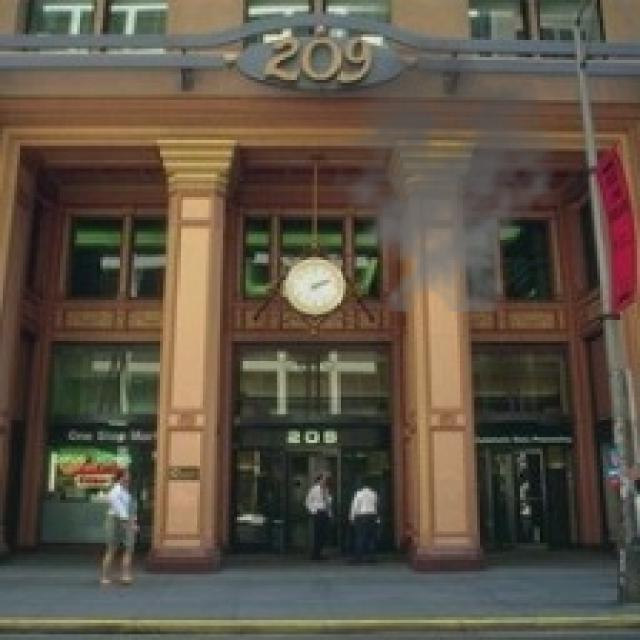Smoke: (317, 40, 566, 312)
